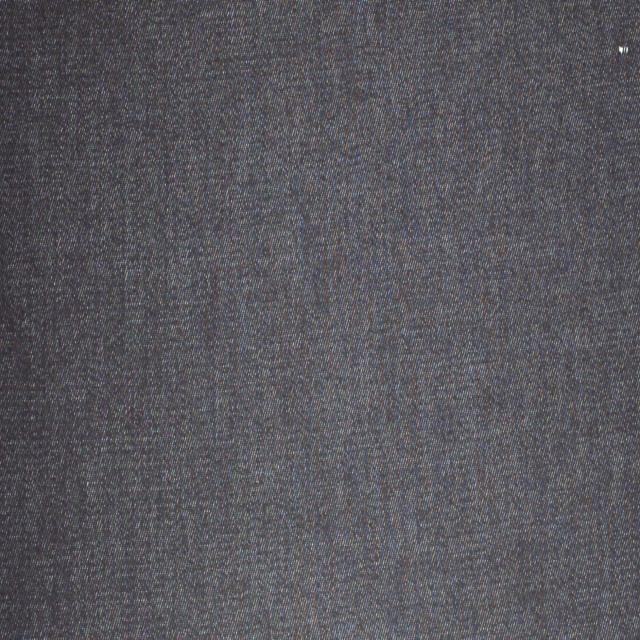Knot: (619, 44, 631, 54)
